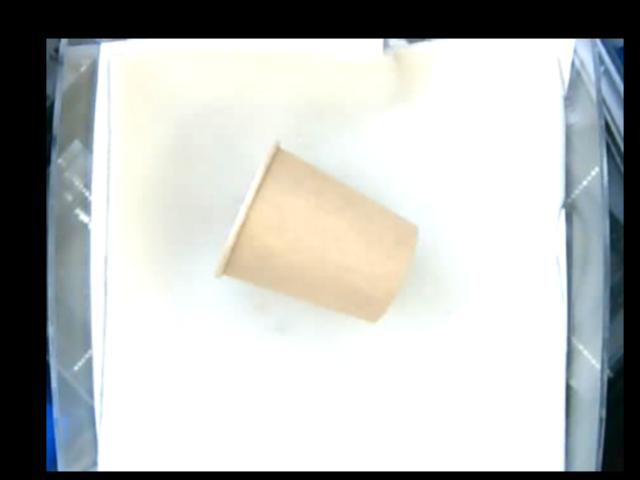Cup: (215, 143, 420, 321)
